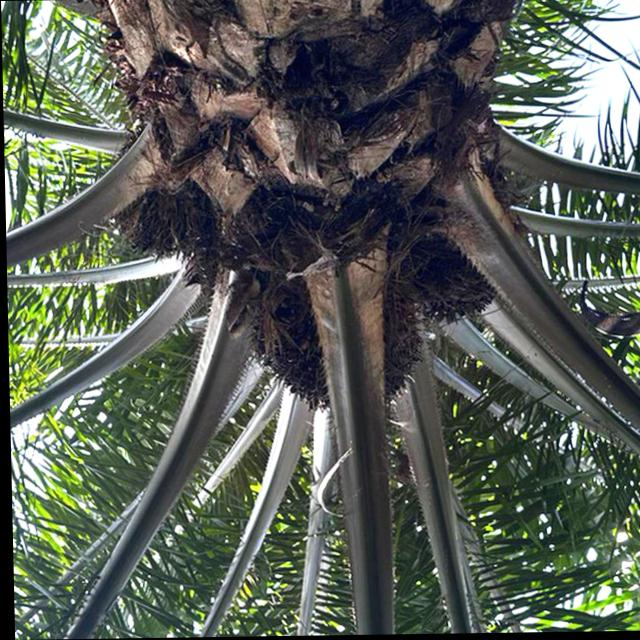ripe: (246, 292, 421, 420), (390, 240, 503, 338)
